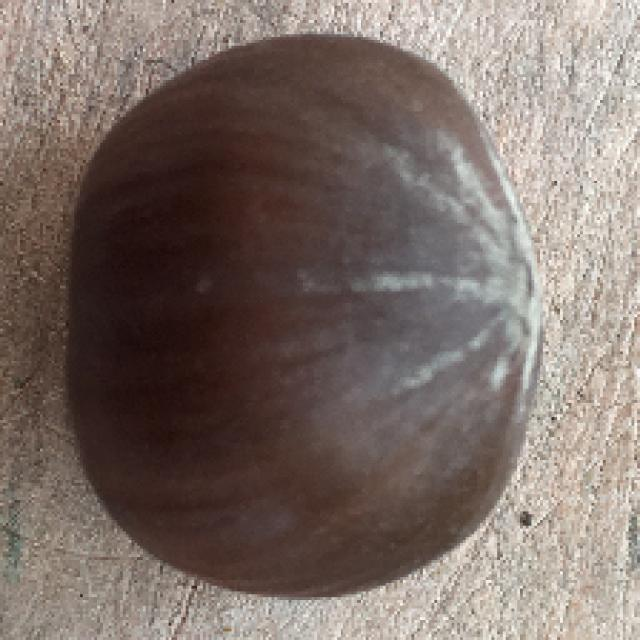qualityHazelnut: (70, 27, 544, 596)
